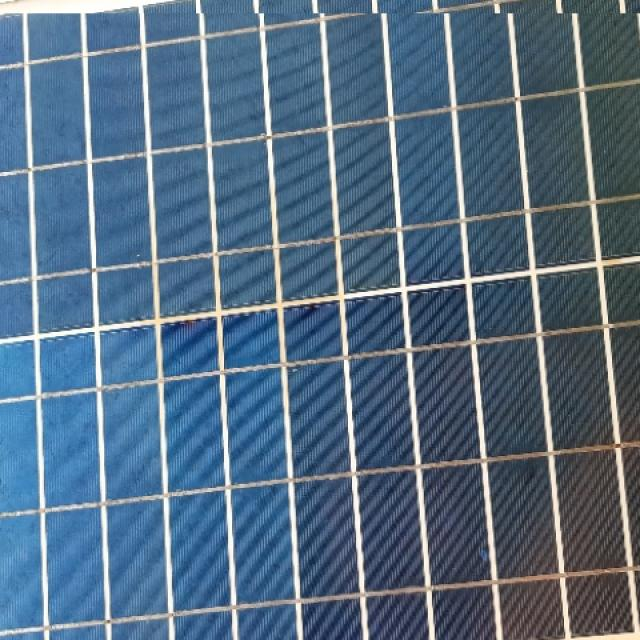Clean: (0, 13, 640, 640)
